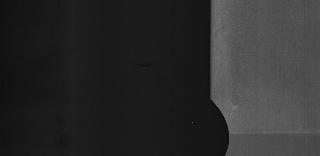welding line: (224, 131, 320, 139)
